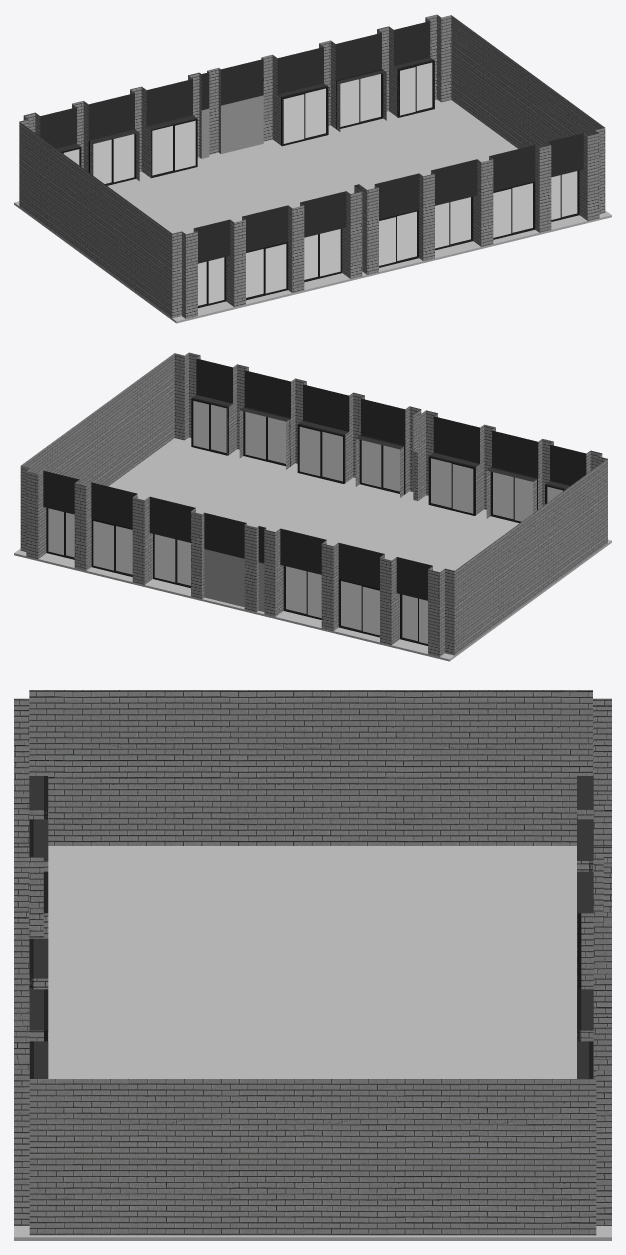
File: MSH_Piso_19.FBX
3 renders of one model, top to bottom at view 1: azimuth 30°, elevation 25°; view 2: azimuth 150°, elevation 25°; view 3: azimuth 270°, elevation 25°, orthographic. The views are drawn at different scales.
Parts seen in each view (by area): view 1: MSH_Piso_19; view 2: MSH_Piso_19; view 3: MSH_Piso_19.
Part boxes in pixels (box(x1,y1,x2,y2)): MSH_Piso_19: box(14, 14, 611, 323); MSH_Piso_19: box(14, 352, 611, 661); MSH_Piso_19: box(14, 690, 611, 1240).
Bounding box in the file's own units: 2256 × 430 × 1458.
